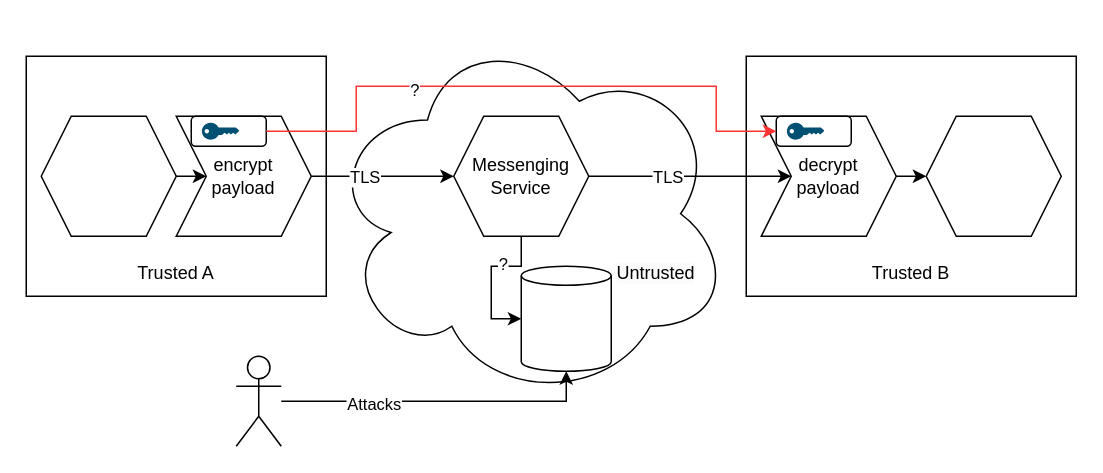
The diagram is 1103 pixels wide and 473 high, and some of its shapes have lost their labels. The shapes that lost their labels are listed below. From the top down, each one's centre as x and y in pixels, then its label:
point (108, 175): Microservice 1
point (993, 175): Microservice 2
point (565, 318): DB (encrypted payload)
